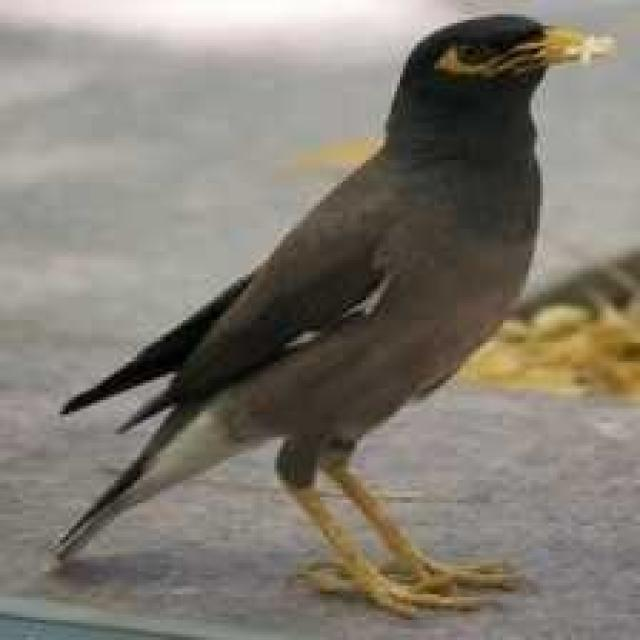bird: (46, 0, 614, 624)
